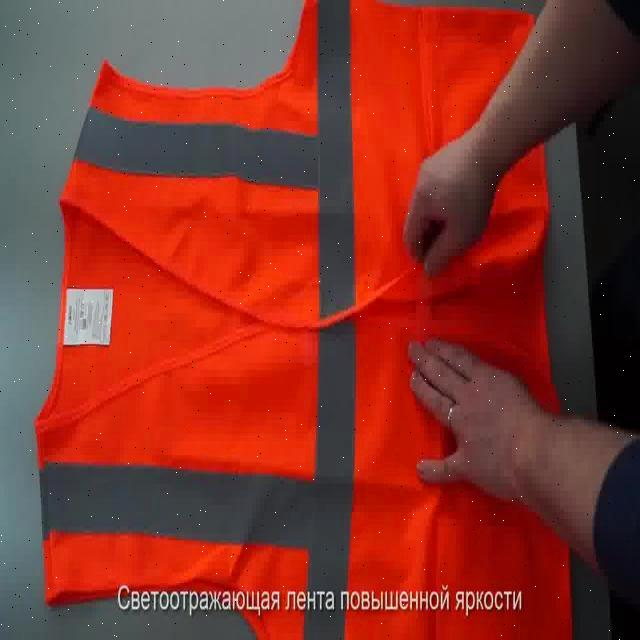Vest: (35, 3, 558, 603)
